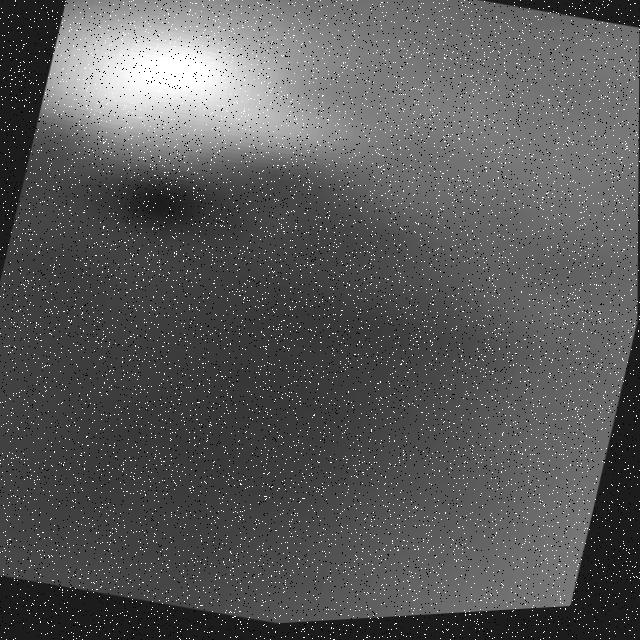person: (20, 1, 587, 311)
